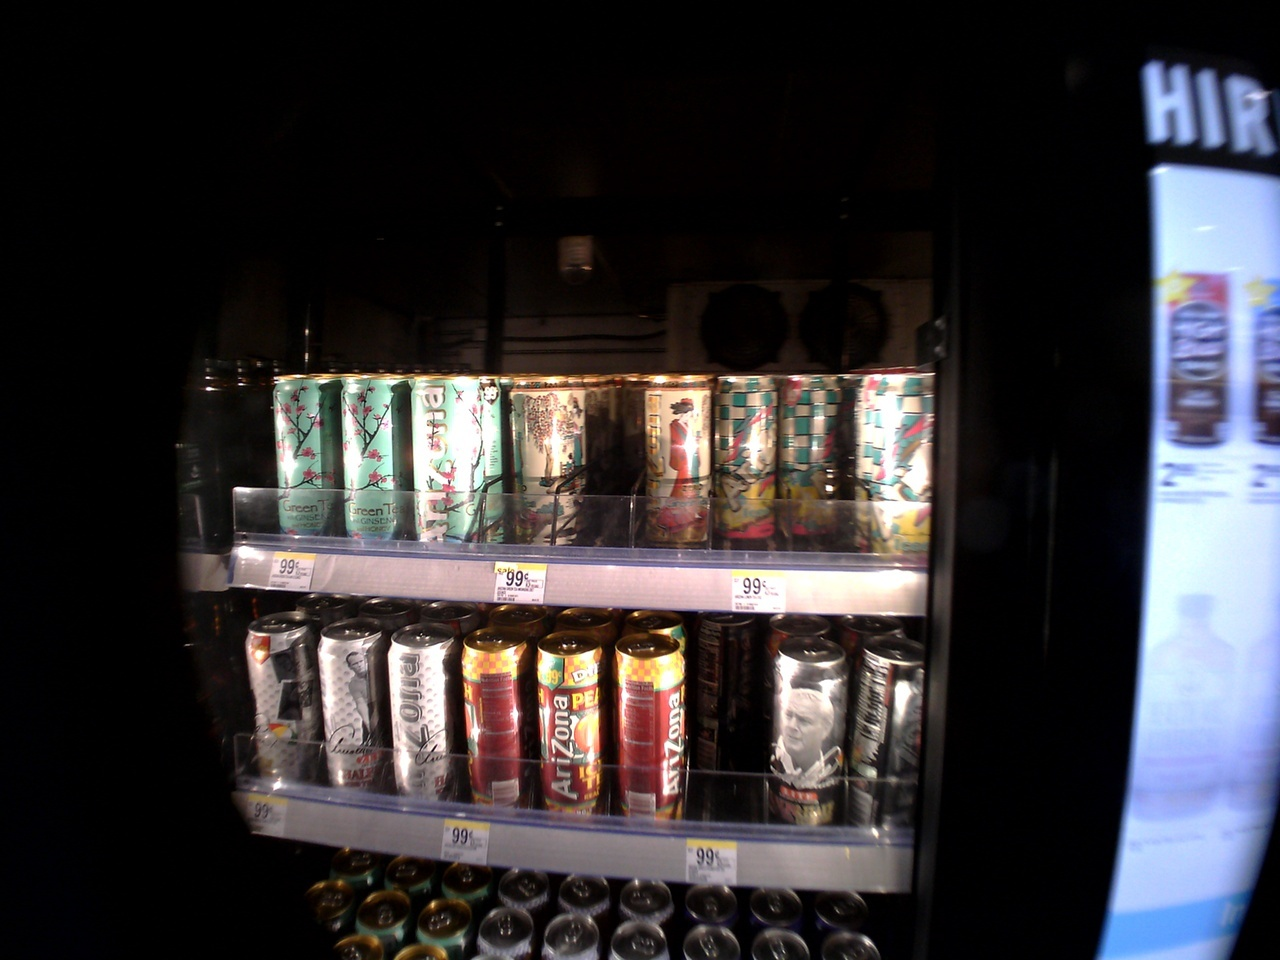shelf: (214, 583, 904, 897), (183, 377, 932, 585)
